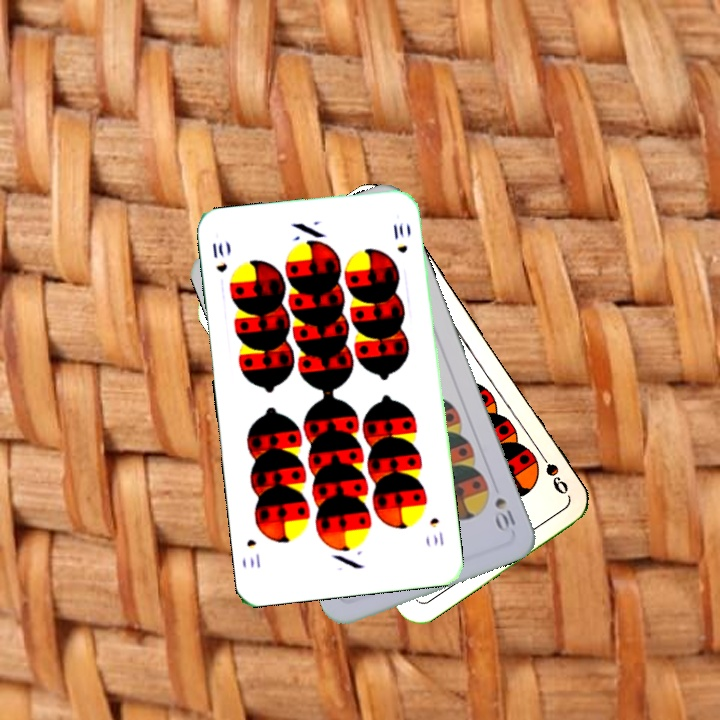S10: (490, 493, 518, 532), (208, 238, 230, 275), (426, 513, 447, 548)
S9: (529, 445, 571, 497)
